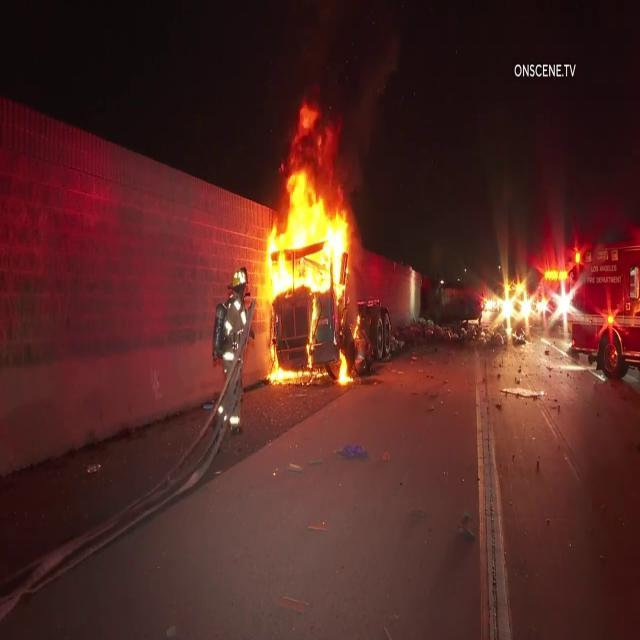Fire: (246, 132, 364, 384)
Smoke: (281, 1, 412, 190)
